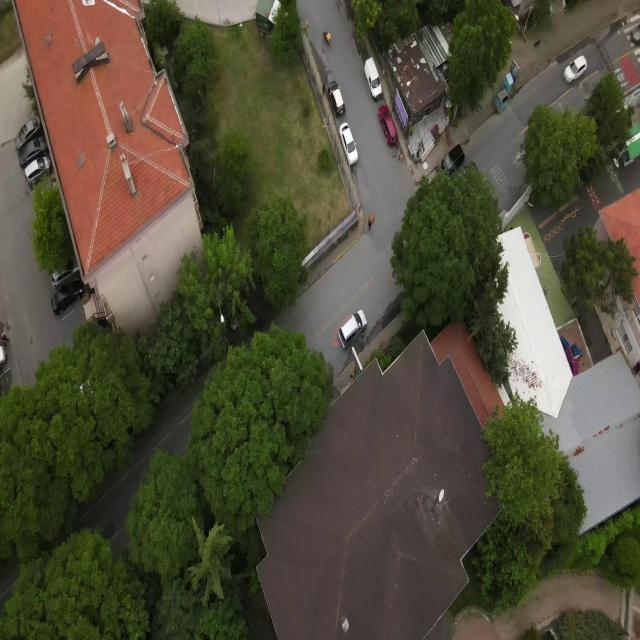p3rson: (1, 331, 10, 343), (0, 338, 8, 348), (322, 81, 326, 94)
